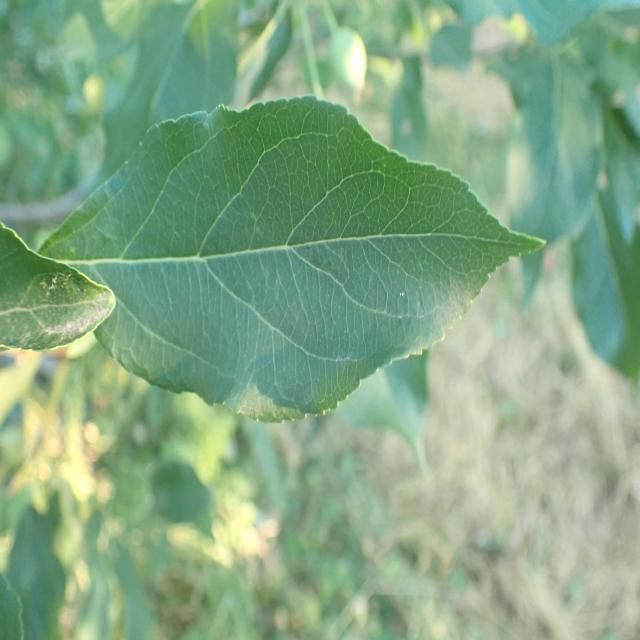healthy: (37, 95, 548, 424), (0, 222, 117, 352)
